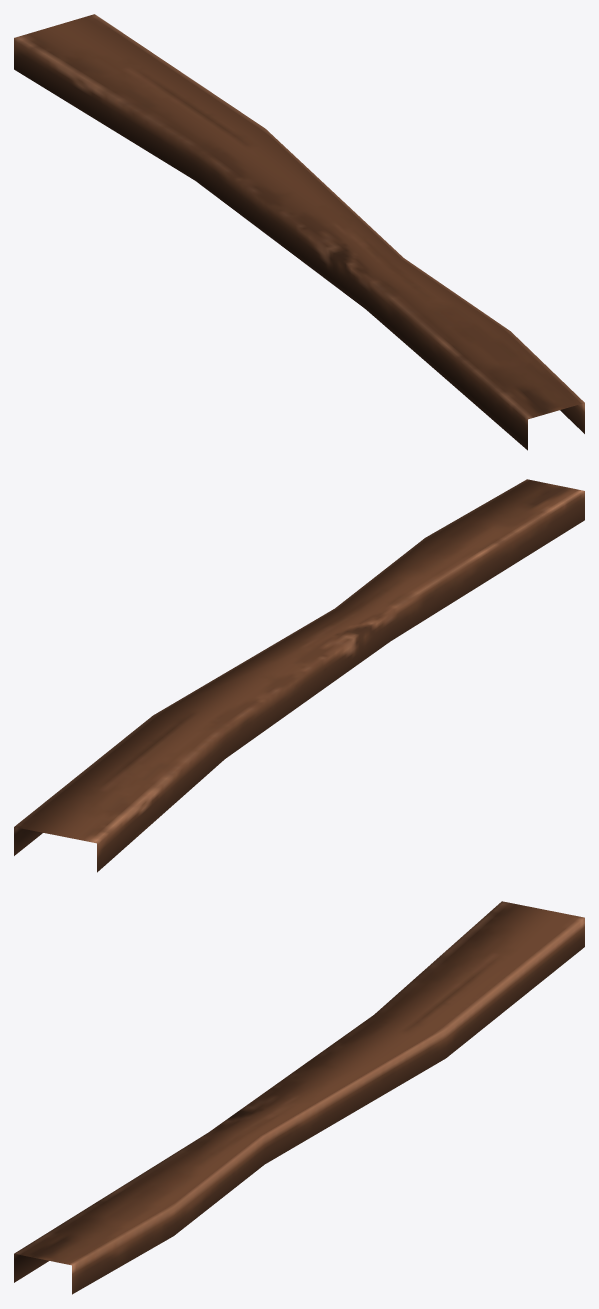
File: sn_jiguan_tielong_006.FBX
The picture shows the model from 3 angles, top to bottom: view 1: azimuth 30°, elevation 25°; view 2: azimuth 150°, elevation 25°; view 3: azimuth 330°, elevation 25°; orthographic projection. The views are drawn at different scales.
Parts seen in each view (by area): view 1: sn_jiguan_tielong_006; view 2: sn_jiguan_tielong_006; view 3: sn_jiguan_tielong_006.
Boxes of the visible parts, x1,y1,x2,y2 form: sn_jiguan_tielong_006: (14,14,584,450); sn_jiguan_tielong_006: (14,479,584,872); sn_jiguan_tielong_006: (14,901,584,1294).
Bounding box in the file's own units: 34.33 × 10.24 × 308.
